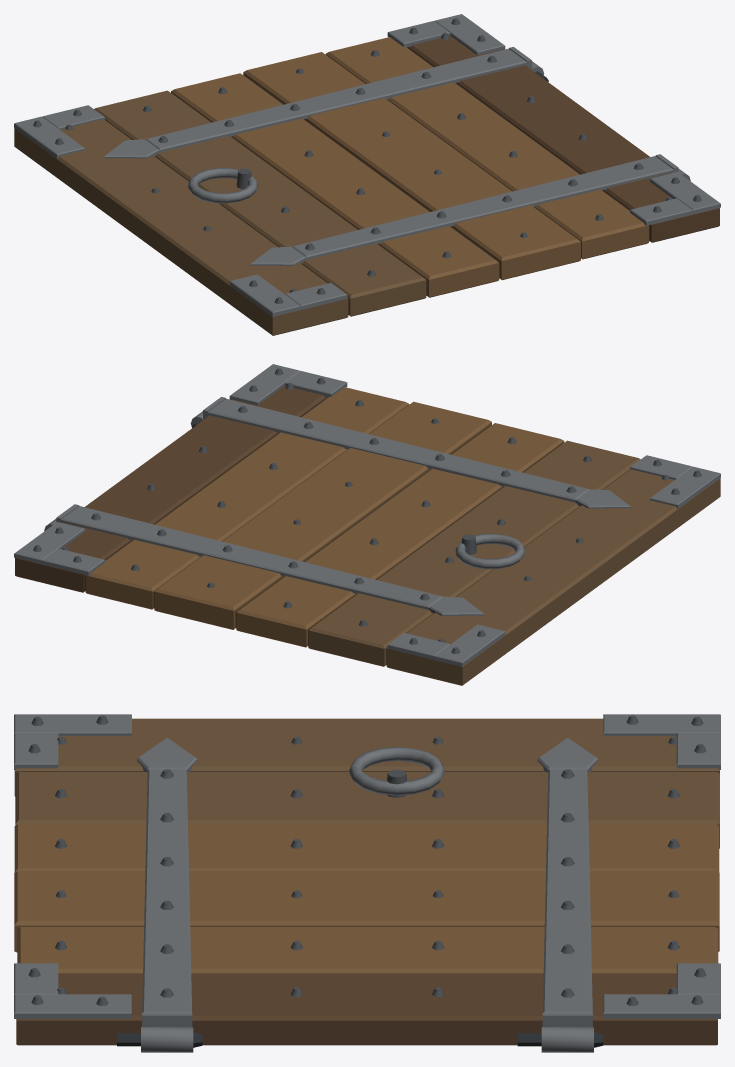
File: SM_LPD_Door_TrapdoorWood_01.fbx
3 renders of one model, top to bottom at view 1: azimuth 30°, elevation 25°; view 2: azimuth 150°, elevation 25°; view 3: azimuth 270°, elevation 25°, orthographic. The views are drawn at different scales.
Visible parts, largest first — view 1: SM_LPD_Door_TrapdoorWood_01; view 2: SM_LPD_Door_TrapdoorWood_01; view 3: SM_LPD_Door_TrapdoorWood_01.
Part boxes in pixels (x1=…): SM_LPD_Door_TrapdoorWood_01: x1=14, y1=14, x2=720, y2=335; SM_LPD_Door_TrapdoorWood_01: x1=14, y1=364, x2=720, y2=685; SM_LPD_Door_TrapdoorWood_01: x1=14, y1=714, x2=720, y2=1052.
Size of the model in its own units: 1.24 by 0.091 by 1.2.
